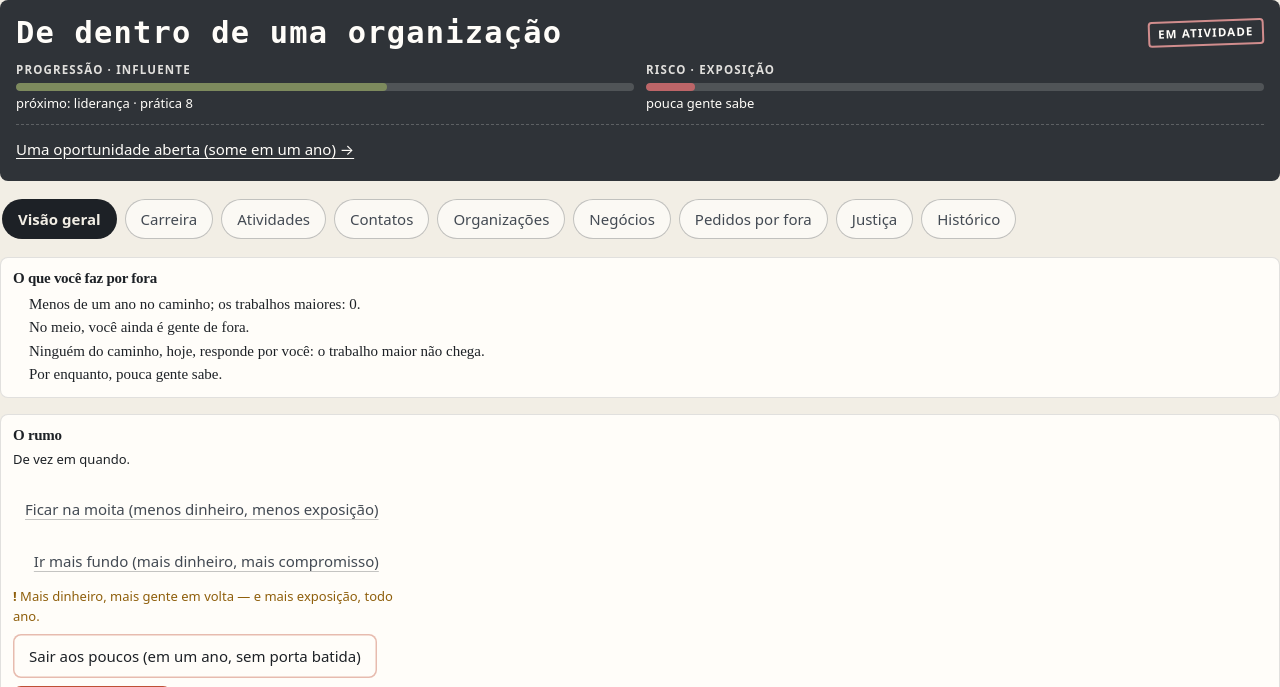
Test case: REWORK 12.35 · telas › histórico: o que se viveu, com o resultado
What coordinates should you click on to do the following:
click the tab "Histórico"
I would click on:
 (969, 219)
Its box is [921,199,1016,239].
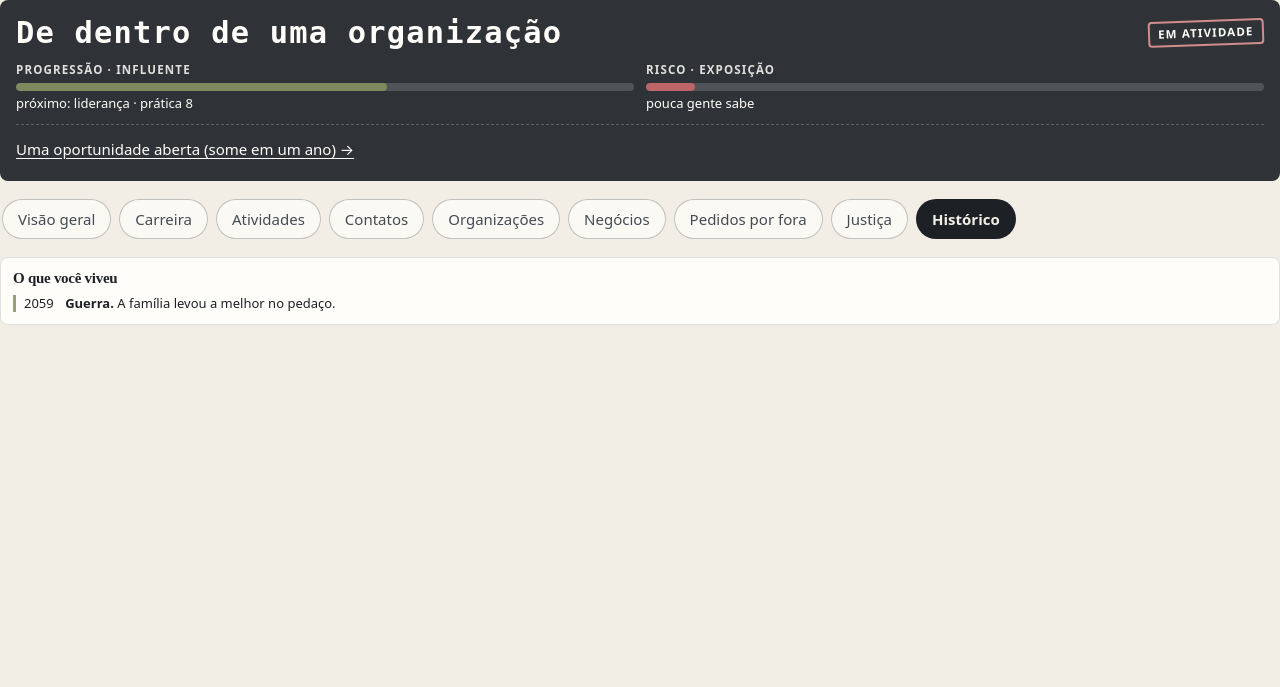
Check: the heading "O que você viveu" is shown, box [13,270,117,286]
Check: the list item "2059 Guerra. A família levou a melhor no pedaço." is shown, box [13,295,1267,312]
